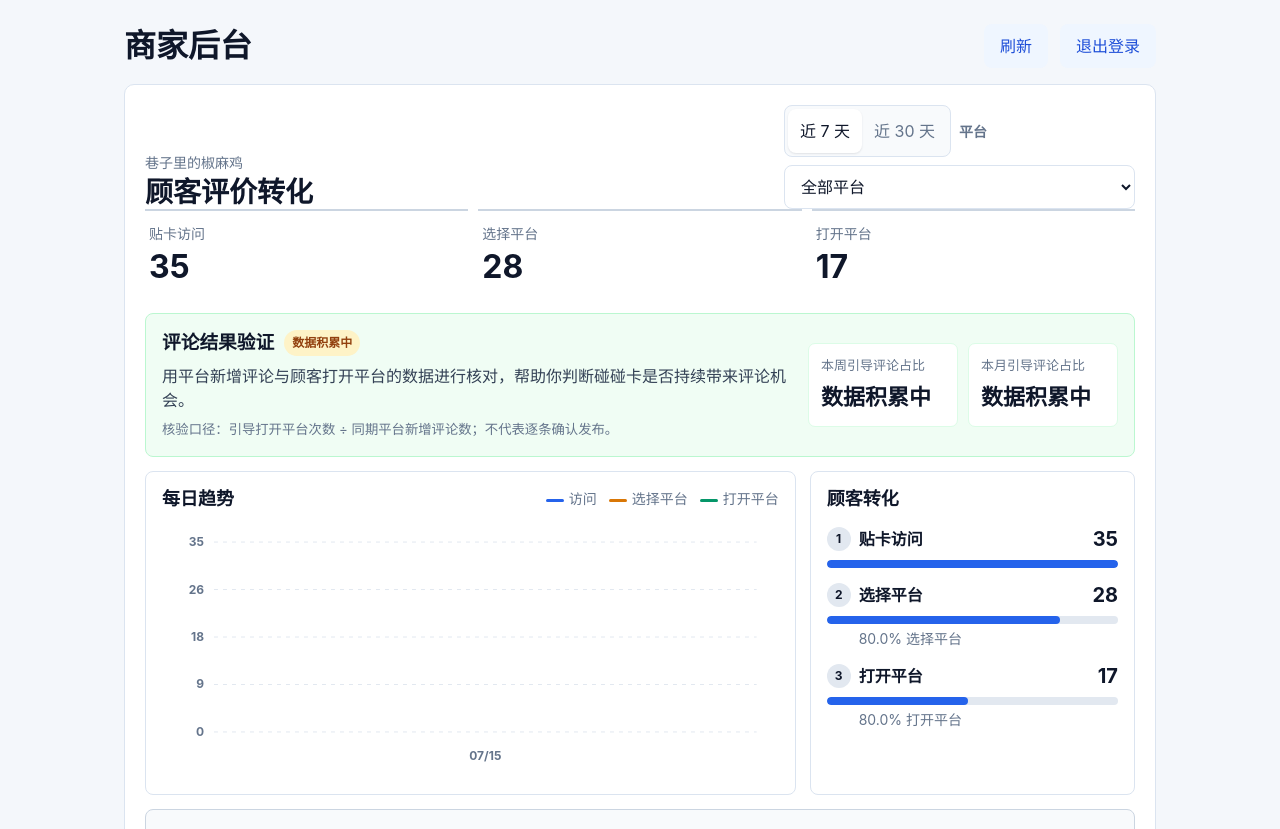
Scenario: MerchantConsole effect filters › keeps numbers, funnel and trend on the same range and platform request
Expected: the element showing "贴卡访问 35" is shown, [145,209,468,299]
Click the button "近 30 天": (904, 131) [862,109,947,153]
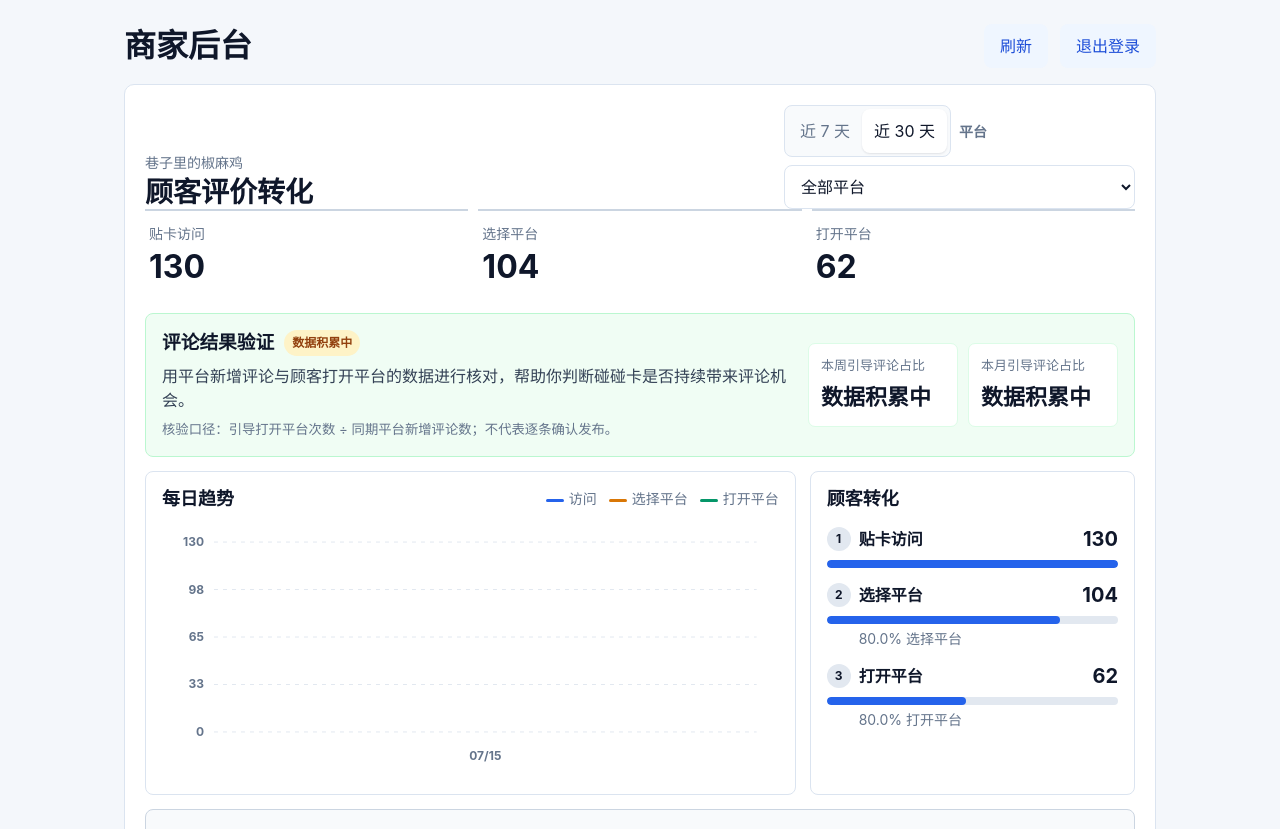
Expected: the element showing "贴卡访问 130" is shown, [145,209,468,299]
Select "美团" in the dropdown with id "effect-platform": (960, 187) [784,165,1135,209]
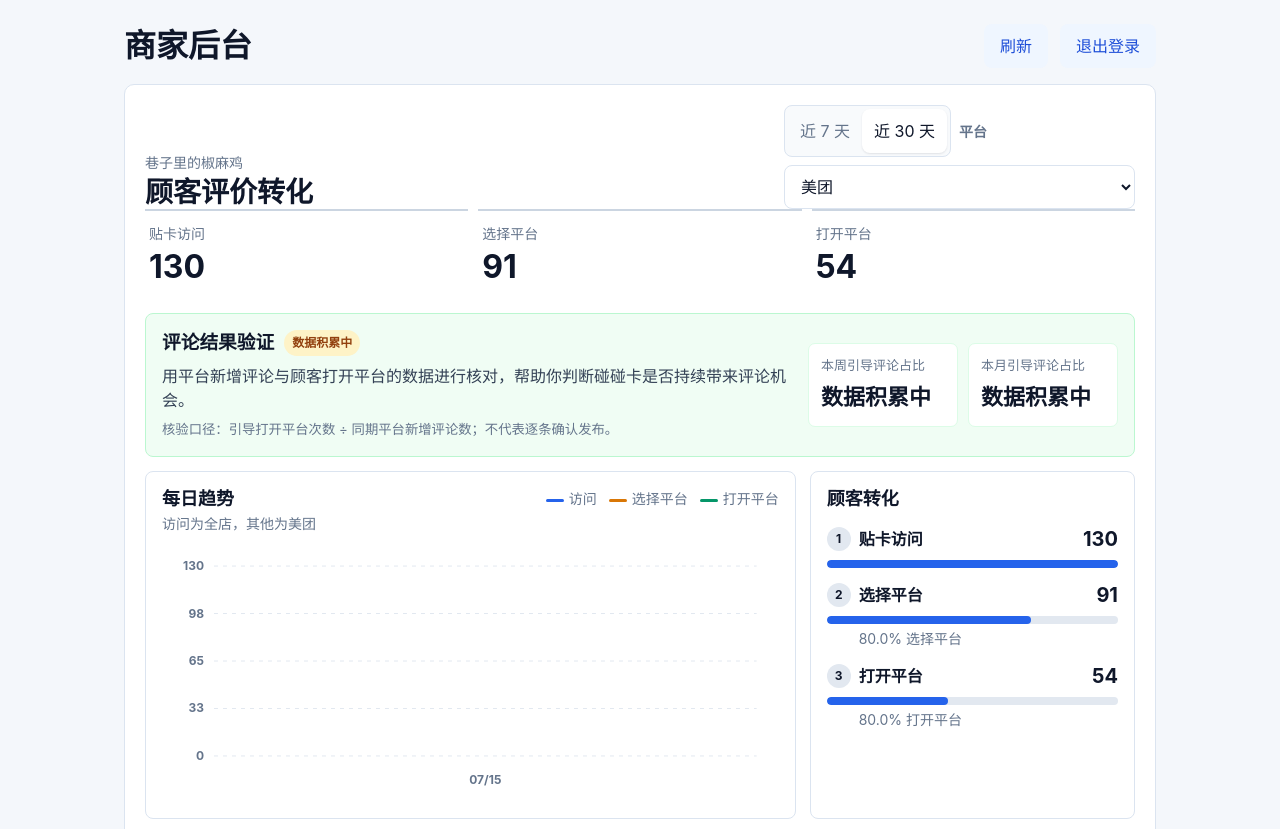
Expected: the number of list items is 3, [827,524,1118,568]; [827,580,1118,649]; [827,661,1118,730]
Expected: the element showing "选择平台 91" is shown, [478,209,802,299]
